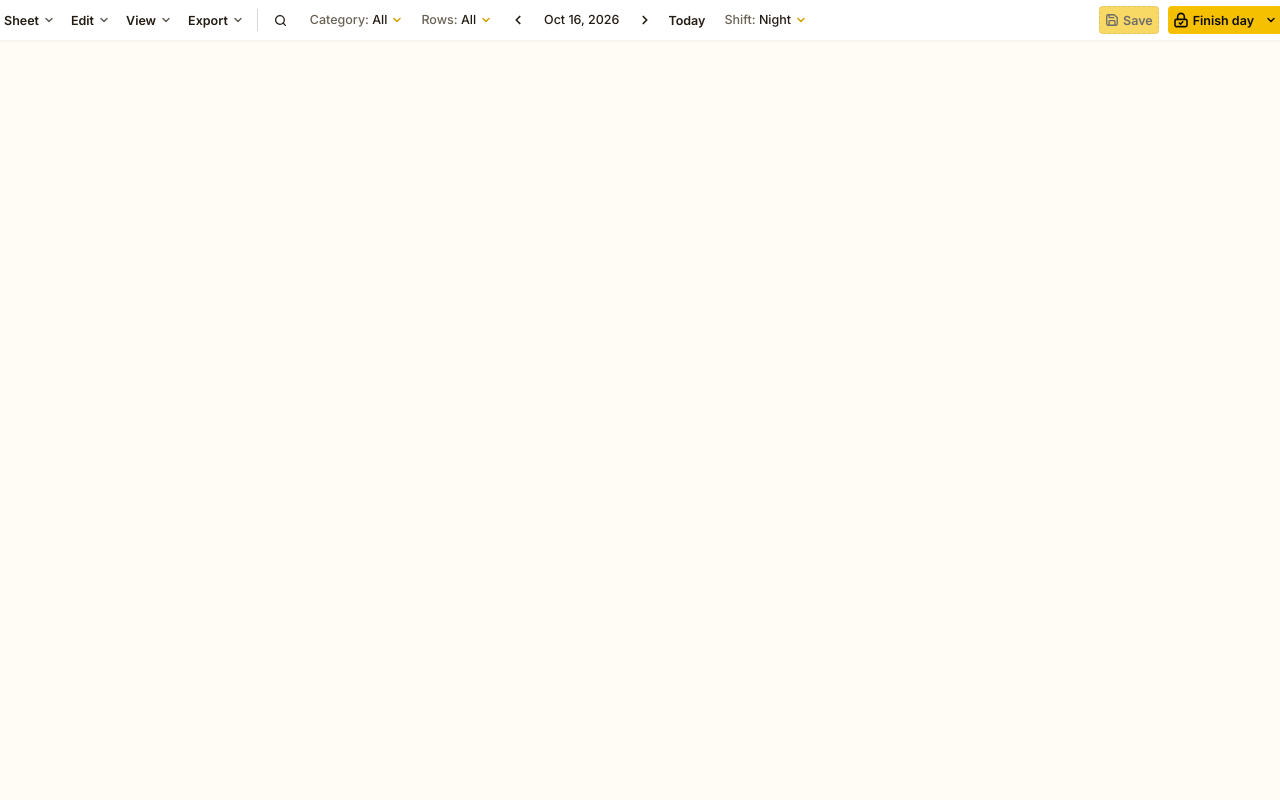
it: Finish › opens a confirmation that says exactly what will happen, before anything is locked
Click the button "Finish day".
click(1213, 20)  # box [1168,6,1259,34]
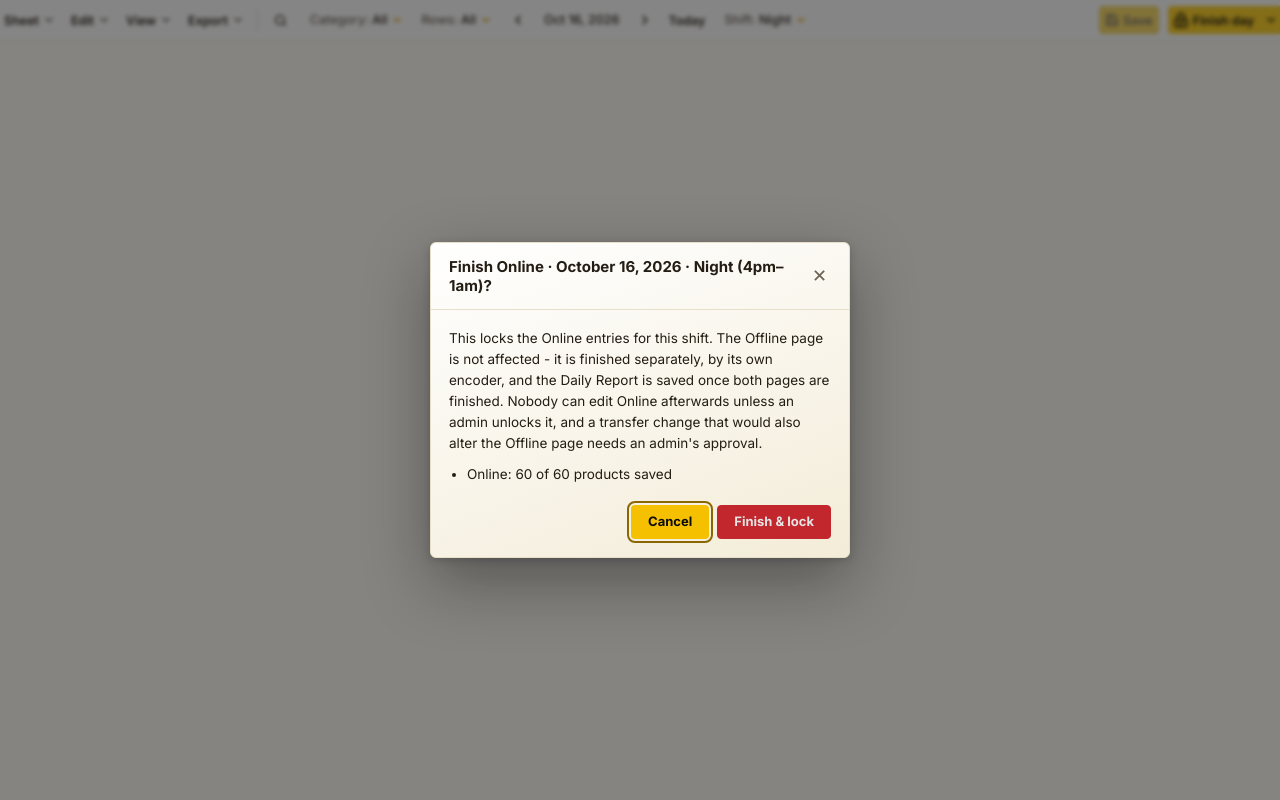
Now the text "This locks the Online entries for this shift" is shown, box [449,328,831,454]
